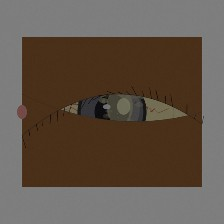corneal_ulcer: (89, 82, 150, 131)
